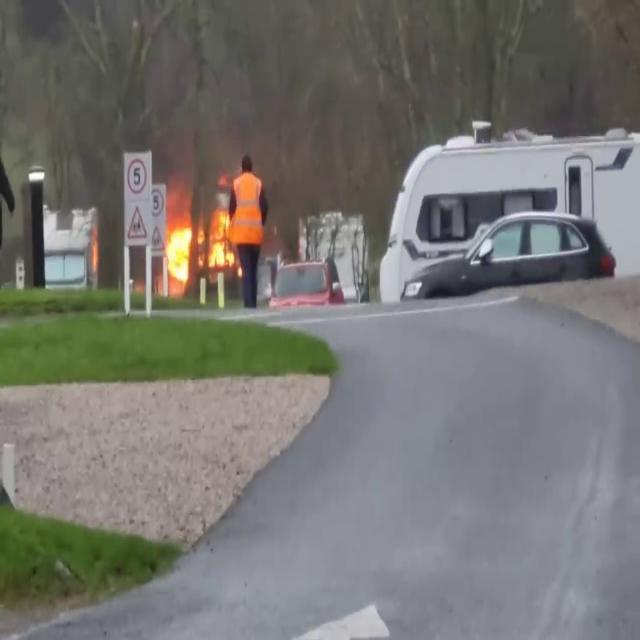Fire: (160, 201, 241, 287)
